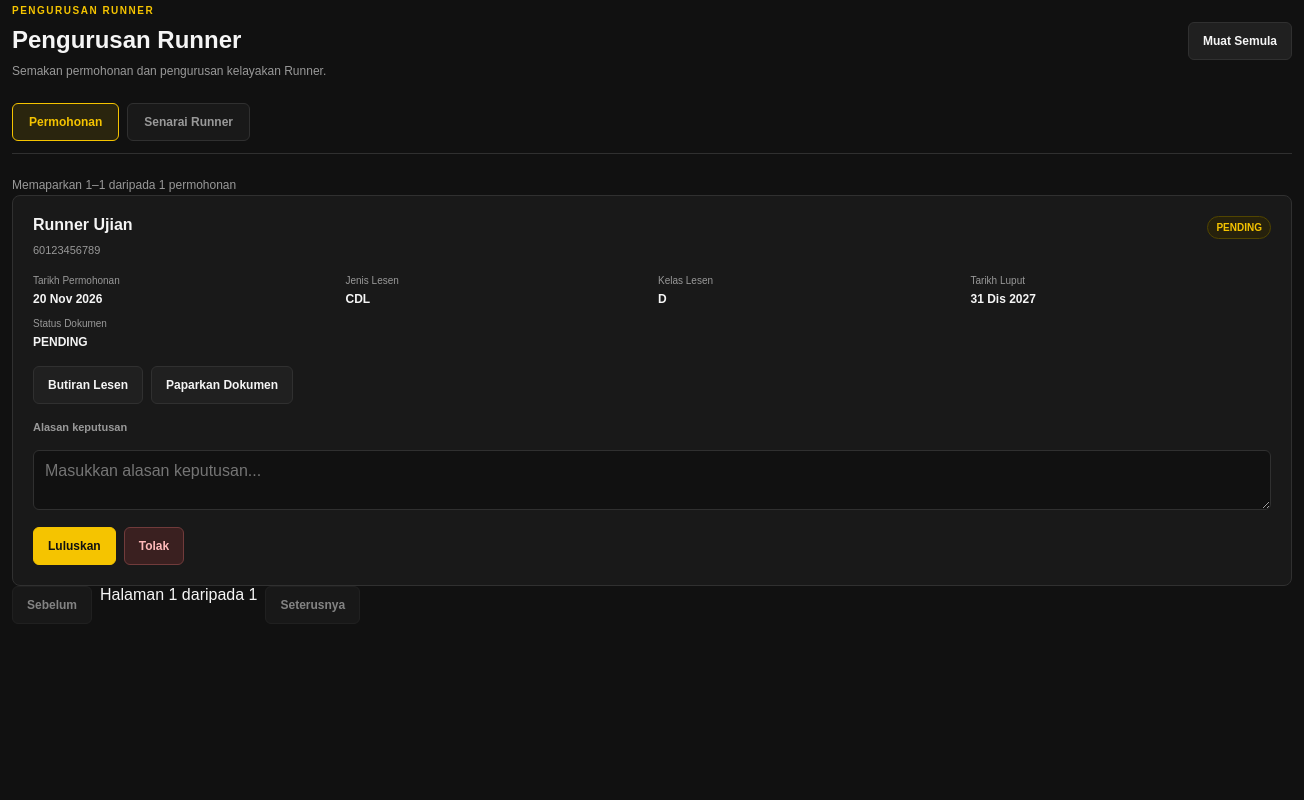
Test: RunnerApplicationsPage › memaparkan butiran lesen melalui API apabila diminta
Expected: the heading "Runner Ujian" is shown, x1=33 y1=216 x2=133 y2=234
Click the button "Butiran Lesen" at (88,385), box x1=33 y1=366 x2=143 y2=404
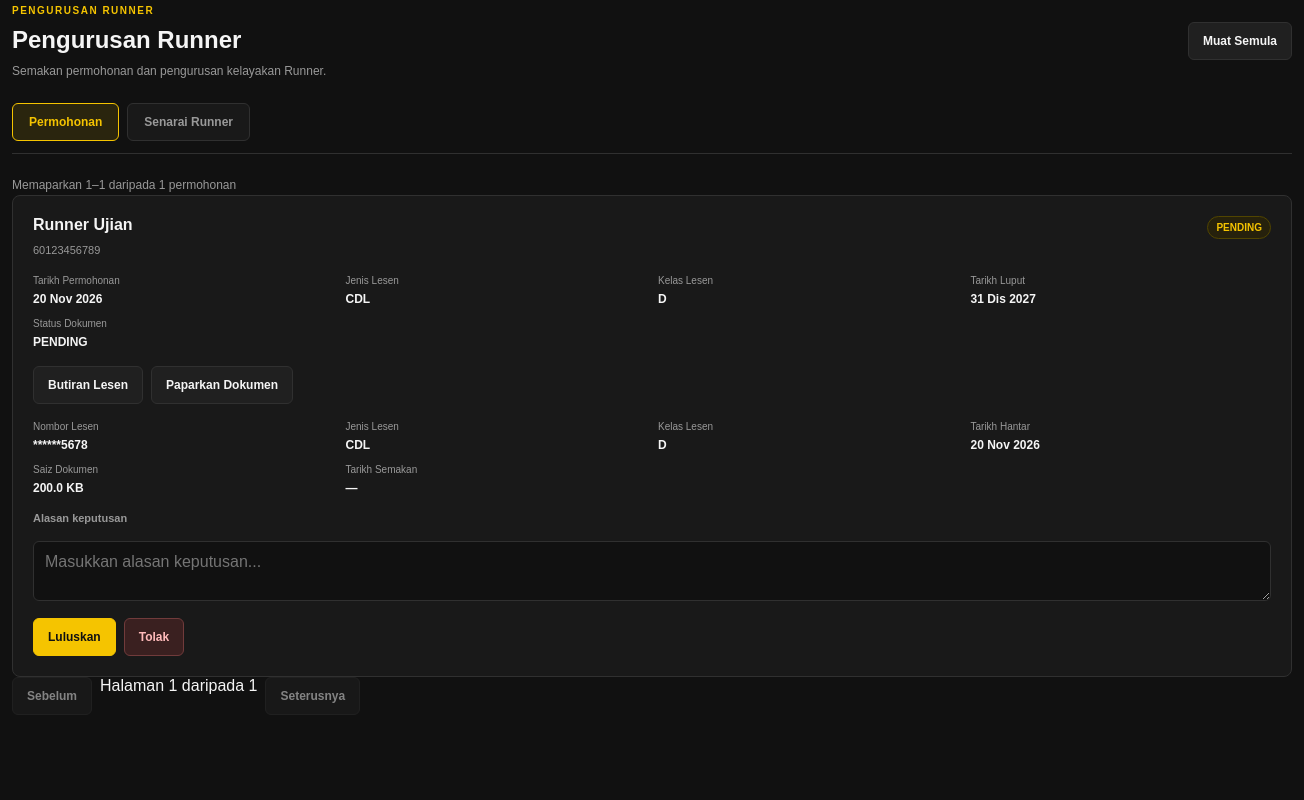
Expected: the text "******5678" is shown, x1=33 y1=438 x2=88 y2=452
